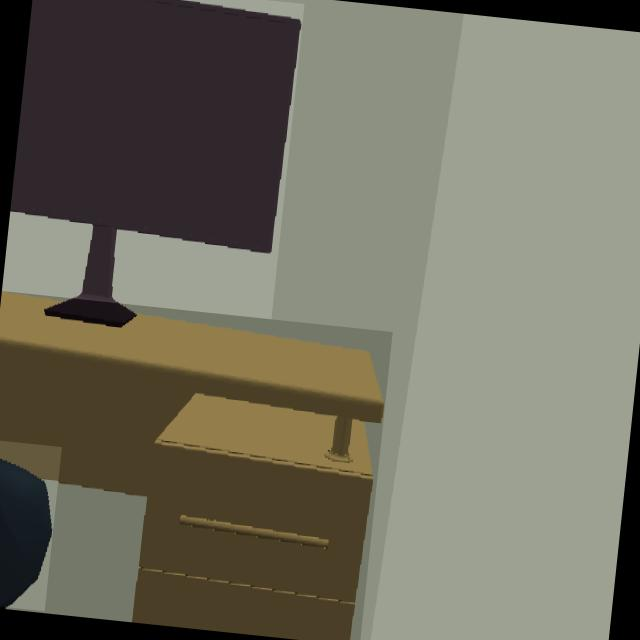chair: (0, 457, 52, 608)
monitor: (10, 0, 300, 328)
table: (0, 291, 384, 640)
